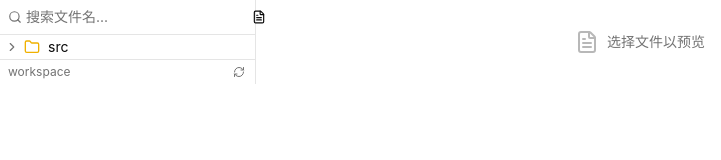
Test: FileExplorerPanel › 点击目录展开子目录
Expected: the text "src" is shown, [48, 37, 68, 57]
# Click directory to expand
Step 1. Click the element with test id "tree-node-src" → (37, 46), box [5, 38, 68, 55]
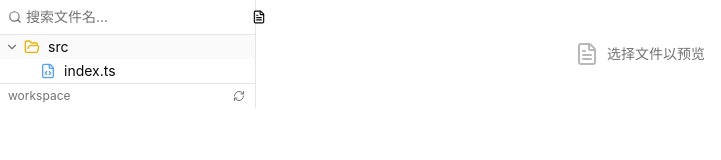
Expected: the text "index.ts" is shown, [64, 61, 116, 81]
